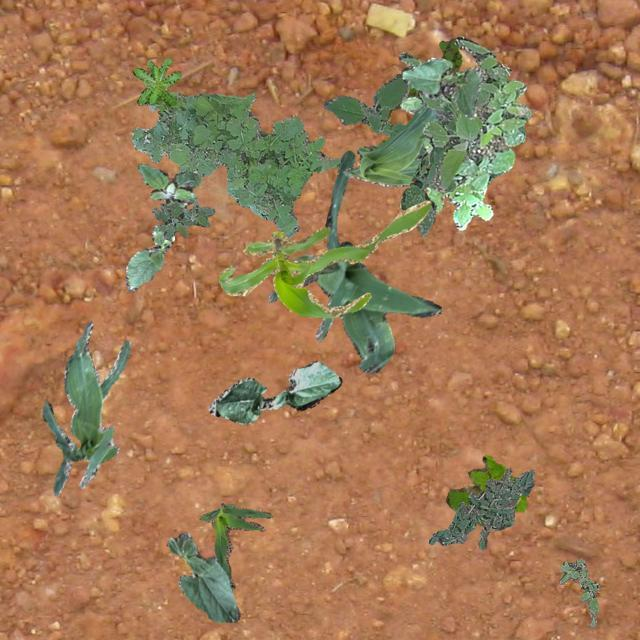crop: (268, 150, 440, 372), (218, 200, 430, 318), (40, 320, 130, 494), (207, 361, 341, 424), (342, 101, 438, 186), (167, 532, 240, 622), (198, 502, 270, 588), (401, 56, 482, 118), (124, 222, 174, 290)
weed: (130, 90, 340, 237), (322, 72, 468, 236), (398, 80, 530, 230), (398, 34, 510, 194), (428, 466, 534, 548), (444, 454, 526, 524), (392, 38, 461, 108), (136, 162, 200, 210), (558, 558, 598, 626), (132, 56, 180, 106), (150, 200, 213, 238)
